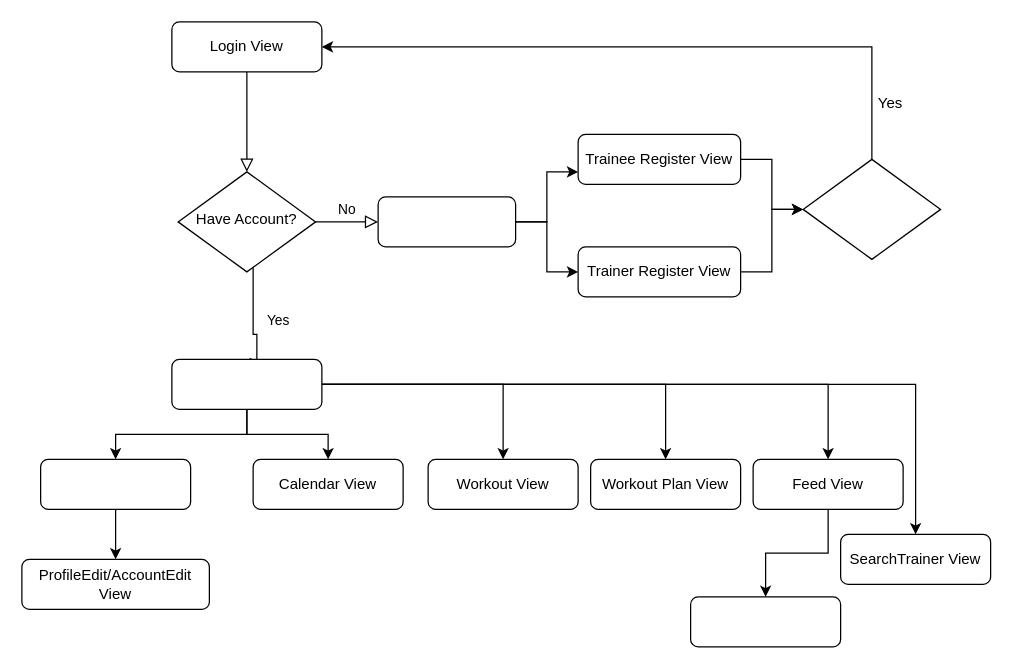
Image size: 1013x669. Some labels were removed from this diagram. The shapes that lost their labels are listed below. From the top down, each one's centre as x and y in pixels, then its label:
At [446,221]: "Register Selection View".
At [871,208]: "Register Successful?".
At [246,383]: "Home View".
At [115,483]: "Profile View".
At [765,621]: "Create Post View".
